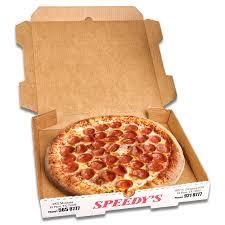Cardboard: (3, 1, 225, 219)
